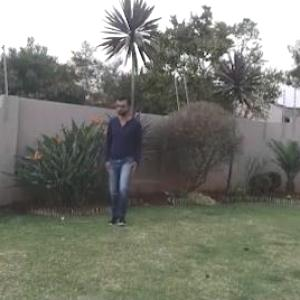follow: (102, 88, 143, 228)
